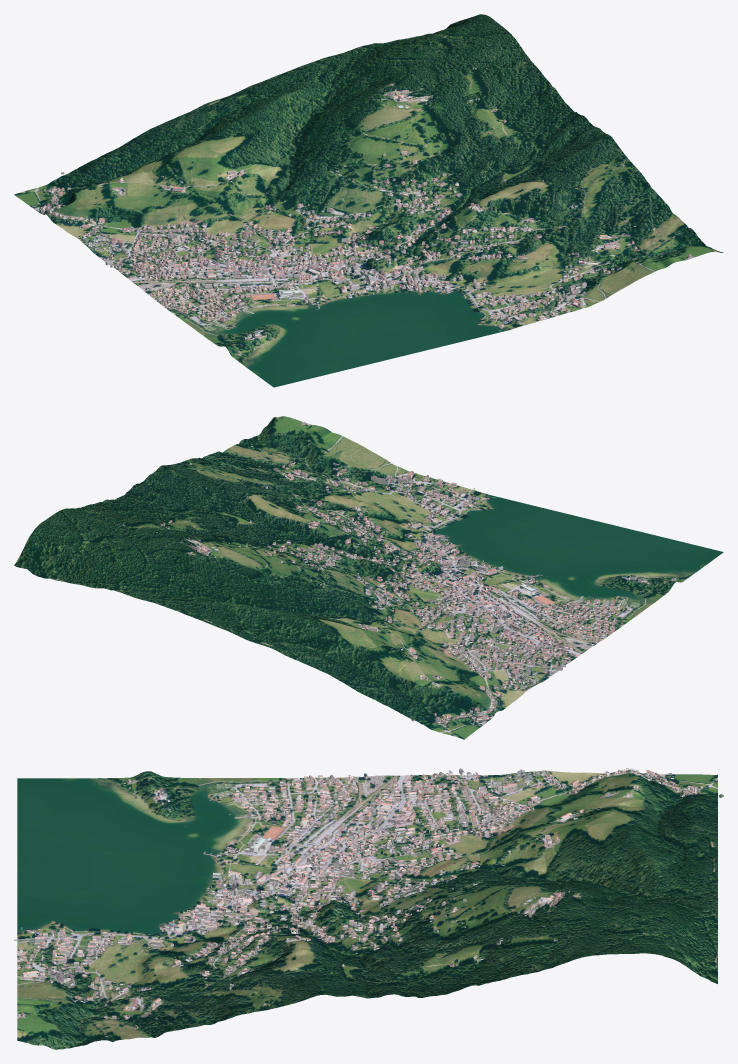
Rendered from asset.glb.
The picture shows the model from 3 angles, top to bottom: view 1: azimuth 30°, elevation 25°; view 2: azimuth 150°, elevation 25°; view 3: azimuth 270°, elevation 25°; orthographic projection. The views are drawn at different scales.
Parts seen in each view (by area): view 1: Schliersee_DGM_10m, Wand, Dach; view 2: Schliersee_DGM_10m, Wand, Dach; view 3: Schliersee_DGM_10m, Wand, Dach.
Boxes of the visible parts, left/top/right/bottom form: Schliersee_DGM_10m: left=14, top=14, right=723, bottom=387; Wand: left=32, top=63, right=691, bottom=355; Dach: left=32, top=67, right=690, bottom=354; Schliersee_DGM_10m: left=14, top=416, right=723, bottom=739; Wand: left=117, top=423, right=677, bottom=726; Dach: left=122, top=422, right=677, bottom=726; Schliersee_DGM_10m: left=17, top=769, right=717, bottom=1049; Wand: left=14, top=769, right=723, bottom=1037; Dach: left=17, top=768, right=723, bottom=1035.
Size of the model in its own units: 2005 by 420 by 2016.
Materials: 7 (3 with a texture image).
